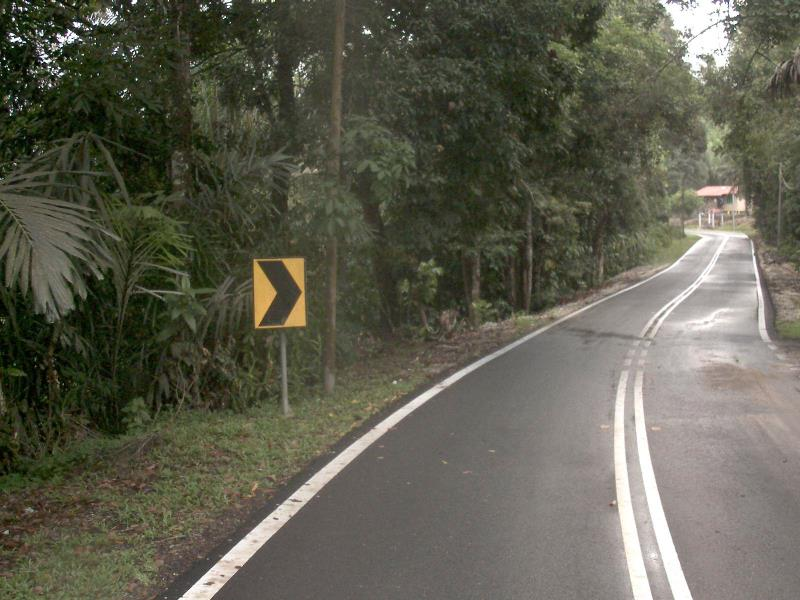traffic_sign: (242, 244, 316, 340)
